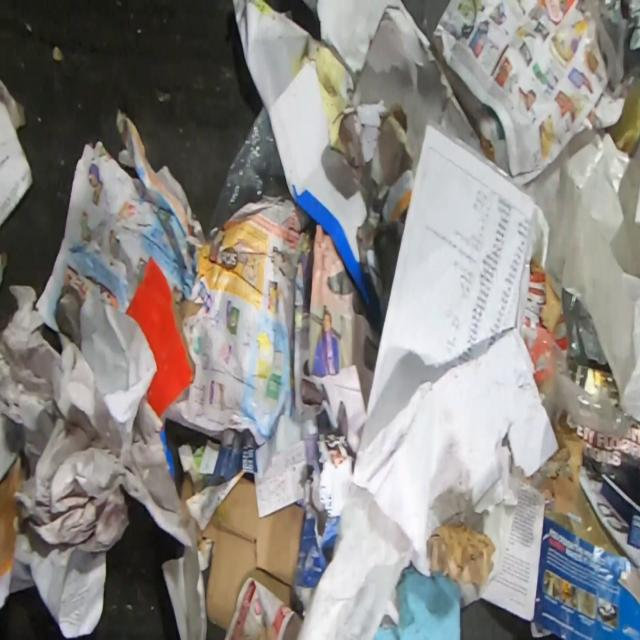cardboard: (267, 58, 391, 342), (196, 476, 305, 631), (125, 253, 203, 418), (522, 256, 570, 355)
soft_plastic: (520, 127, 640, 423), (519, 322, 633, 439), (210, 103, 294, 230), (574, 0, 640, 100)
